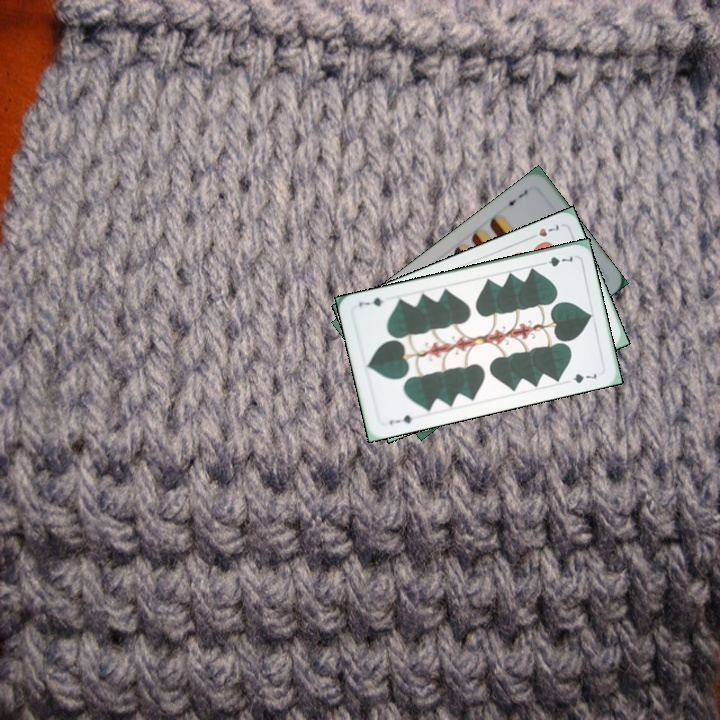E7: (500, 186, 530, 210)
G7: (536, 251, 575, 269), (385, 411, 415, 427)
H7: (524, 220, 562, 242)
